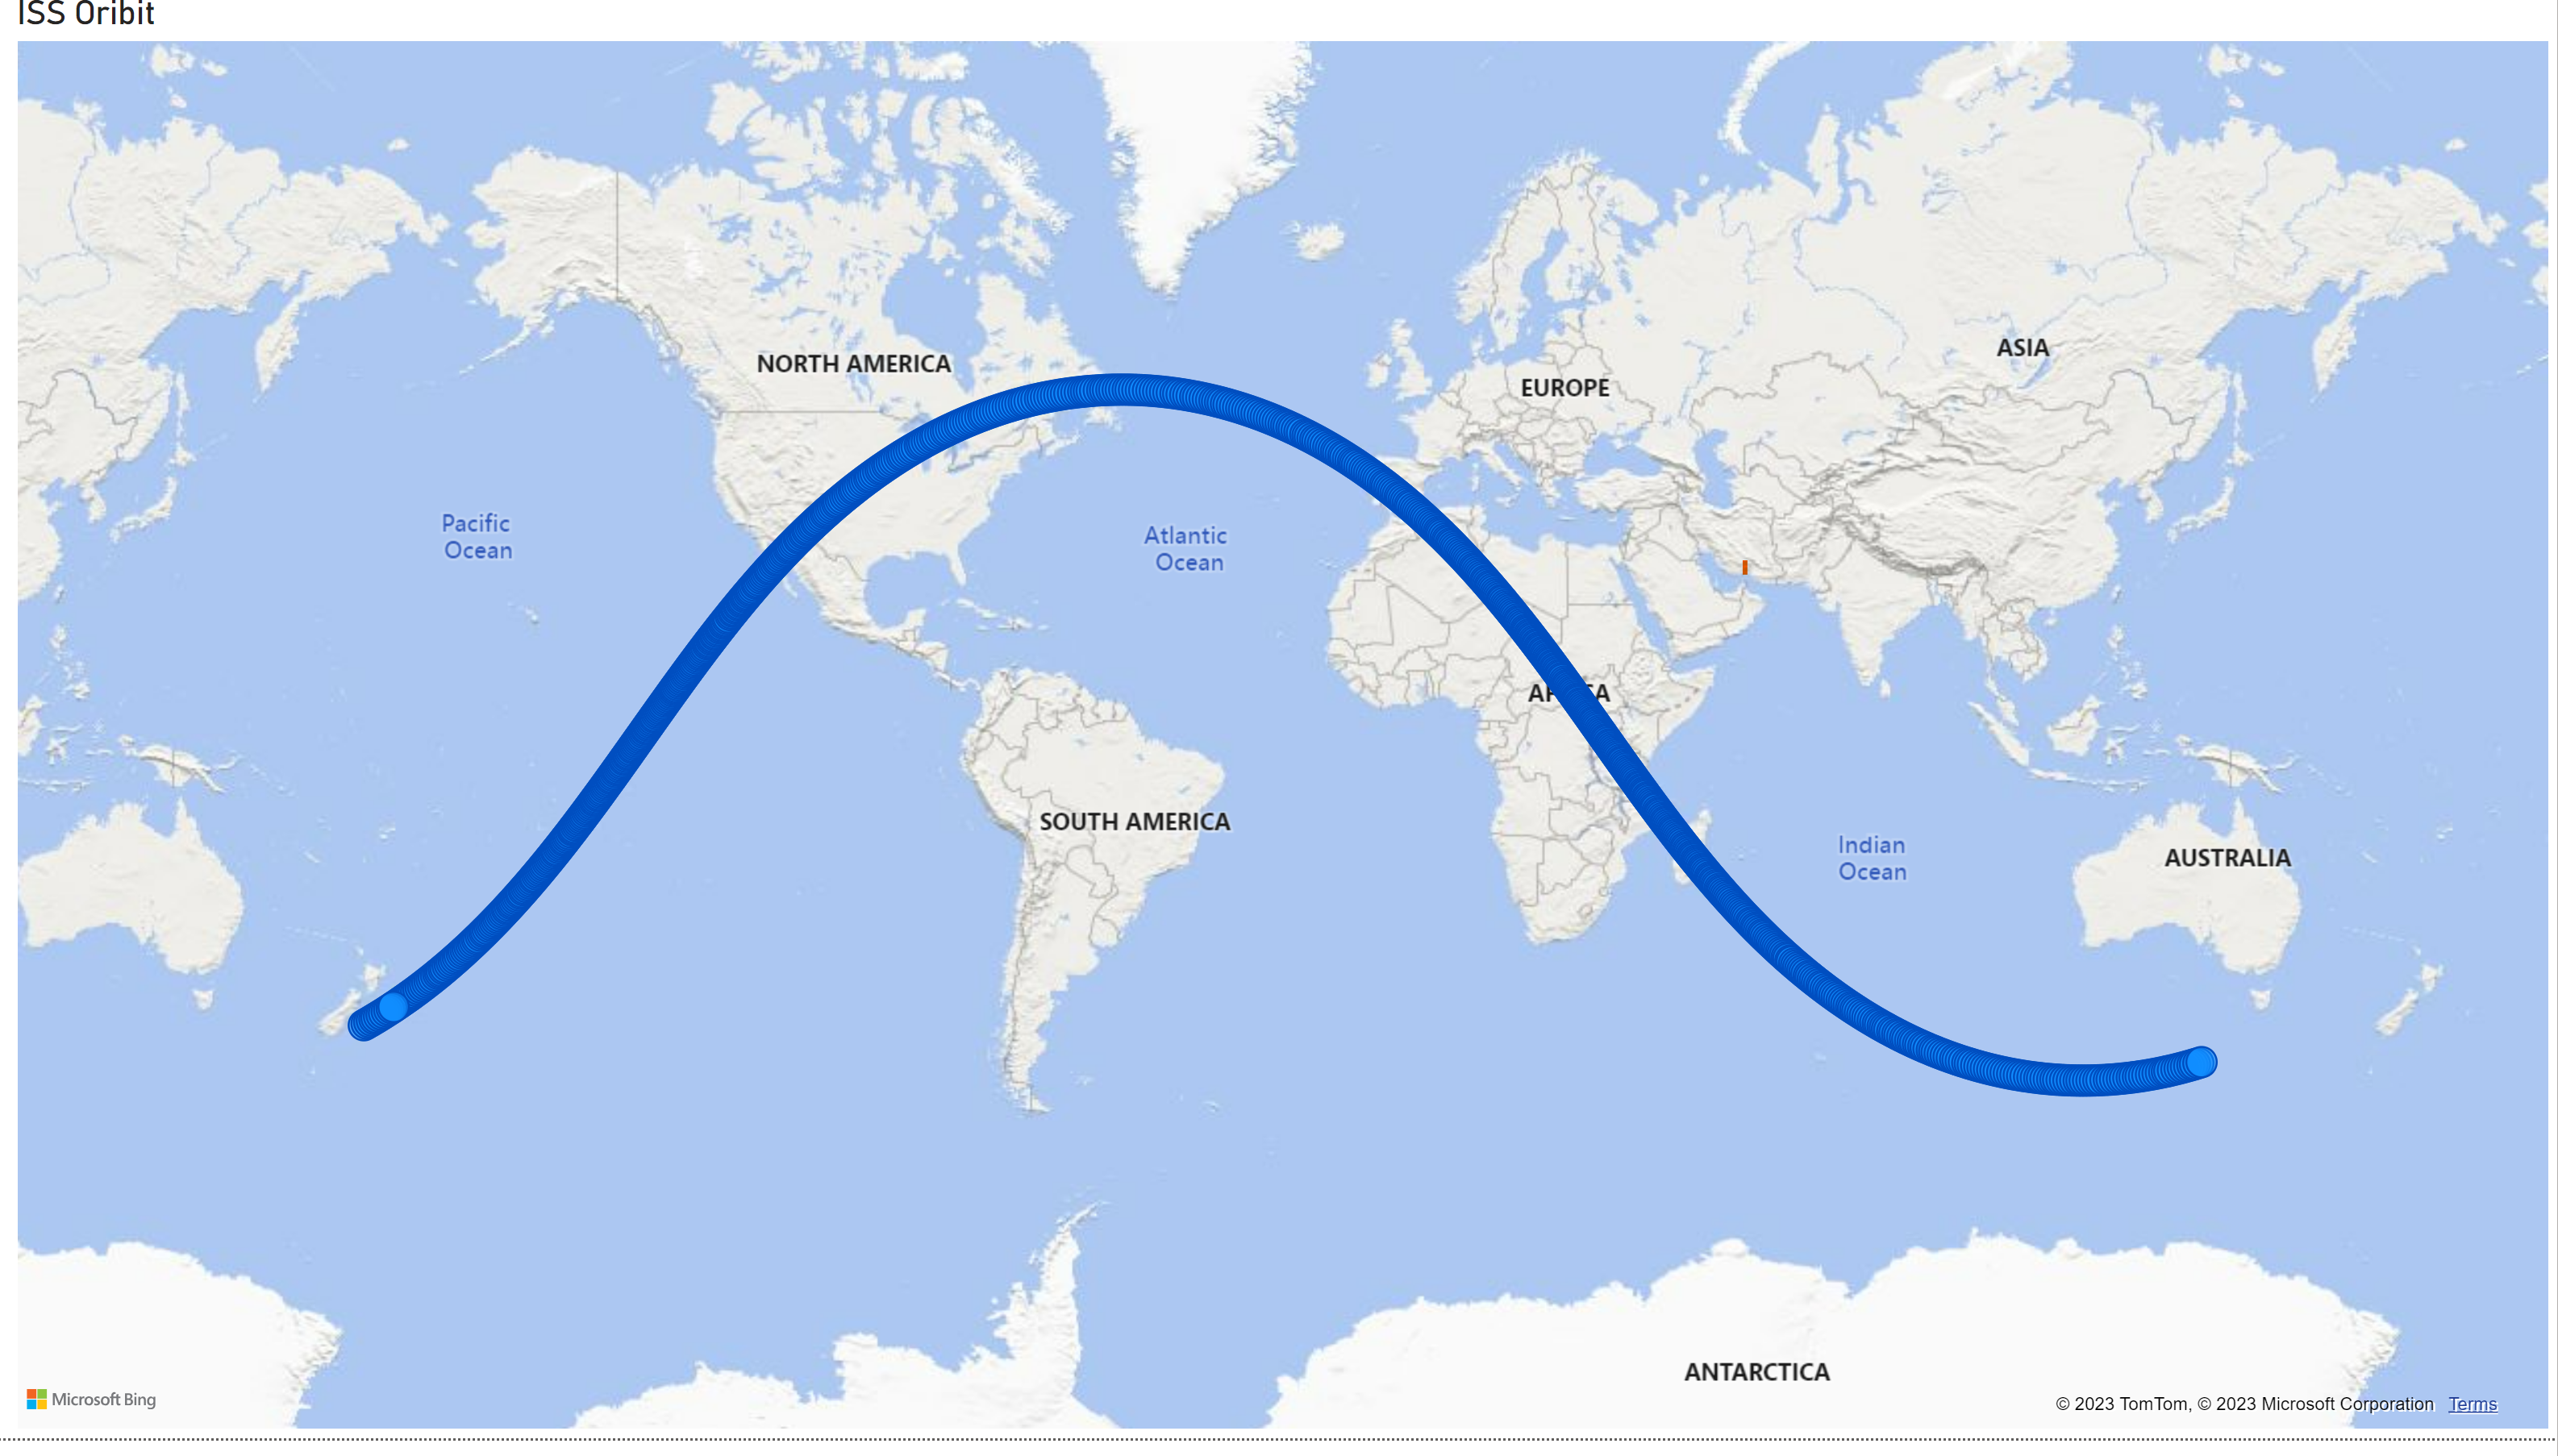

What the dashboard file says about the page in this screenshot:
{"tool":"powerbi","page":{"name":"Orbit","canvas":[1280,720],"ordinal":1},"visuals":[{"type":"map","title":"ISS Oribit","fields":{"X":["ISSOrbit.Longitude"],"Y":["ISSOrbit.Latitude"]},"box":[10.2,0,1269.8,720.1],"z":0}]}

Visuals, with their boxes in screenshot pixels (x1, y1, x2, y2), scaled from the page's 1280x720 canvas onto the 2558x1456 screenshot:
"ISS Oribit" map: locate(20, 0, 2557, 1455)
